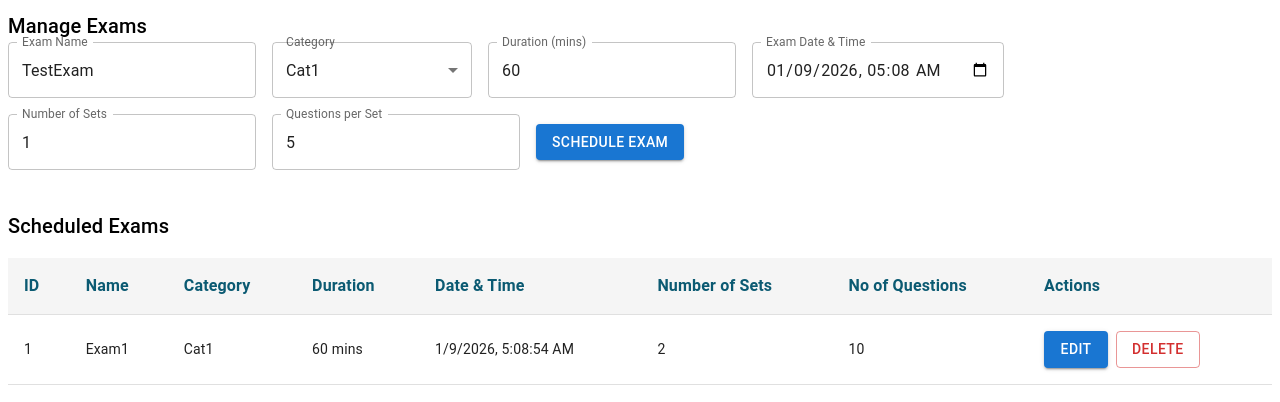
ManageExamsTab Component › deletes an exam on Delete click and shows snackbar
The width and height of the screenshot is (1280, 402).
Click the button "Delete": click(1158, 349) [1116, 331, 1200, 368]
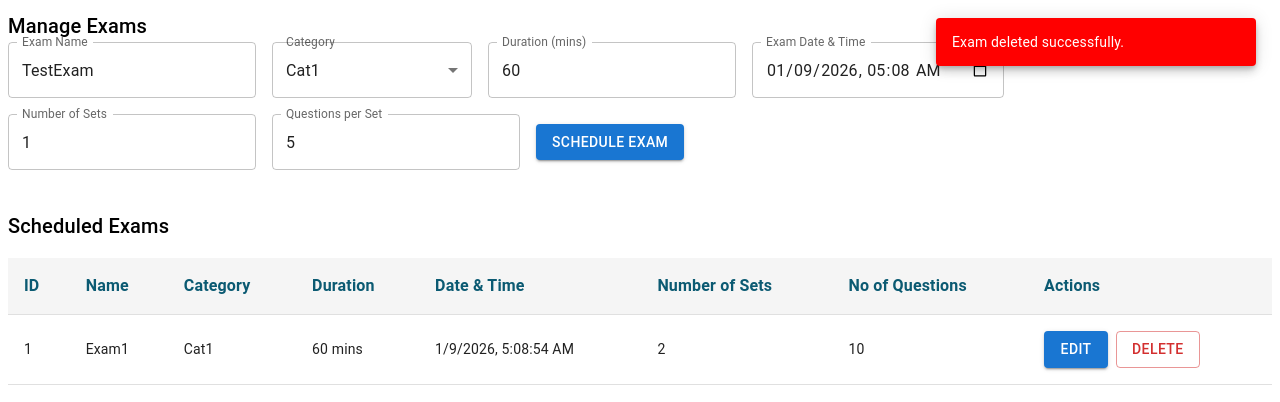
Expected: the text "Exam deleted successfully." is shown, [952, 34, 1124, 50]
